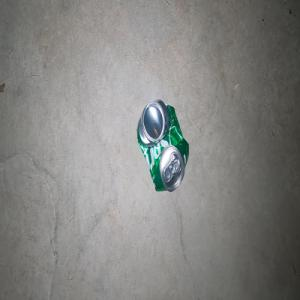SodaCan: (136, 98, 188, 191)
